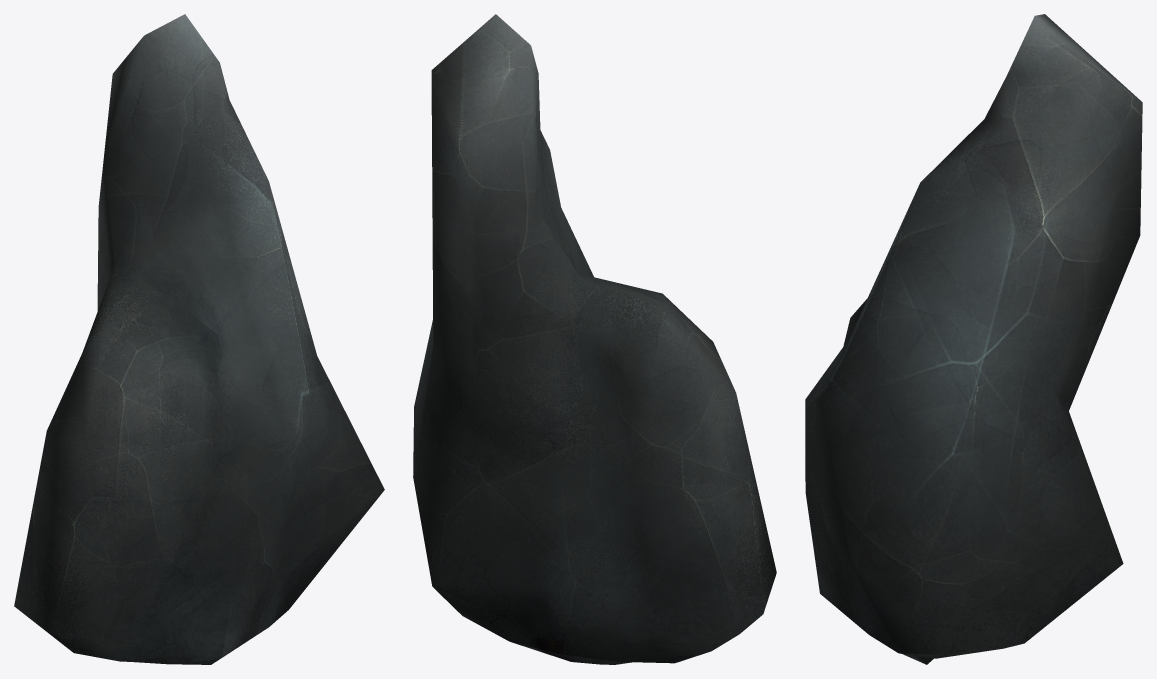
The picture shows the model from 3 angles, left to right: view 1: azimuth 30°, elevation 25°; view 2: azimuth 150°, elevation 25°; view 3: azimuth 270°, elevation 25°; orthographic projection. The views are drawn at different scales.
Parts seen in each view (by area): view 1: Stein_Stele; view 2: Stein_Stele; view 3: Stein_Stele.
Part boxes in pixels (x1=…): Stein_Stele: x1=14, y1=14, x2=384, y2=664; Stein_Stele: x1=413, y1=14, x2=776, y2=664; Stein_Stele: x1=805, y1=14, x2=1142, y2=664.
Bounding box in the file's own units: 191 × 360 × 165.
1 material, 1 textured.
